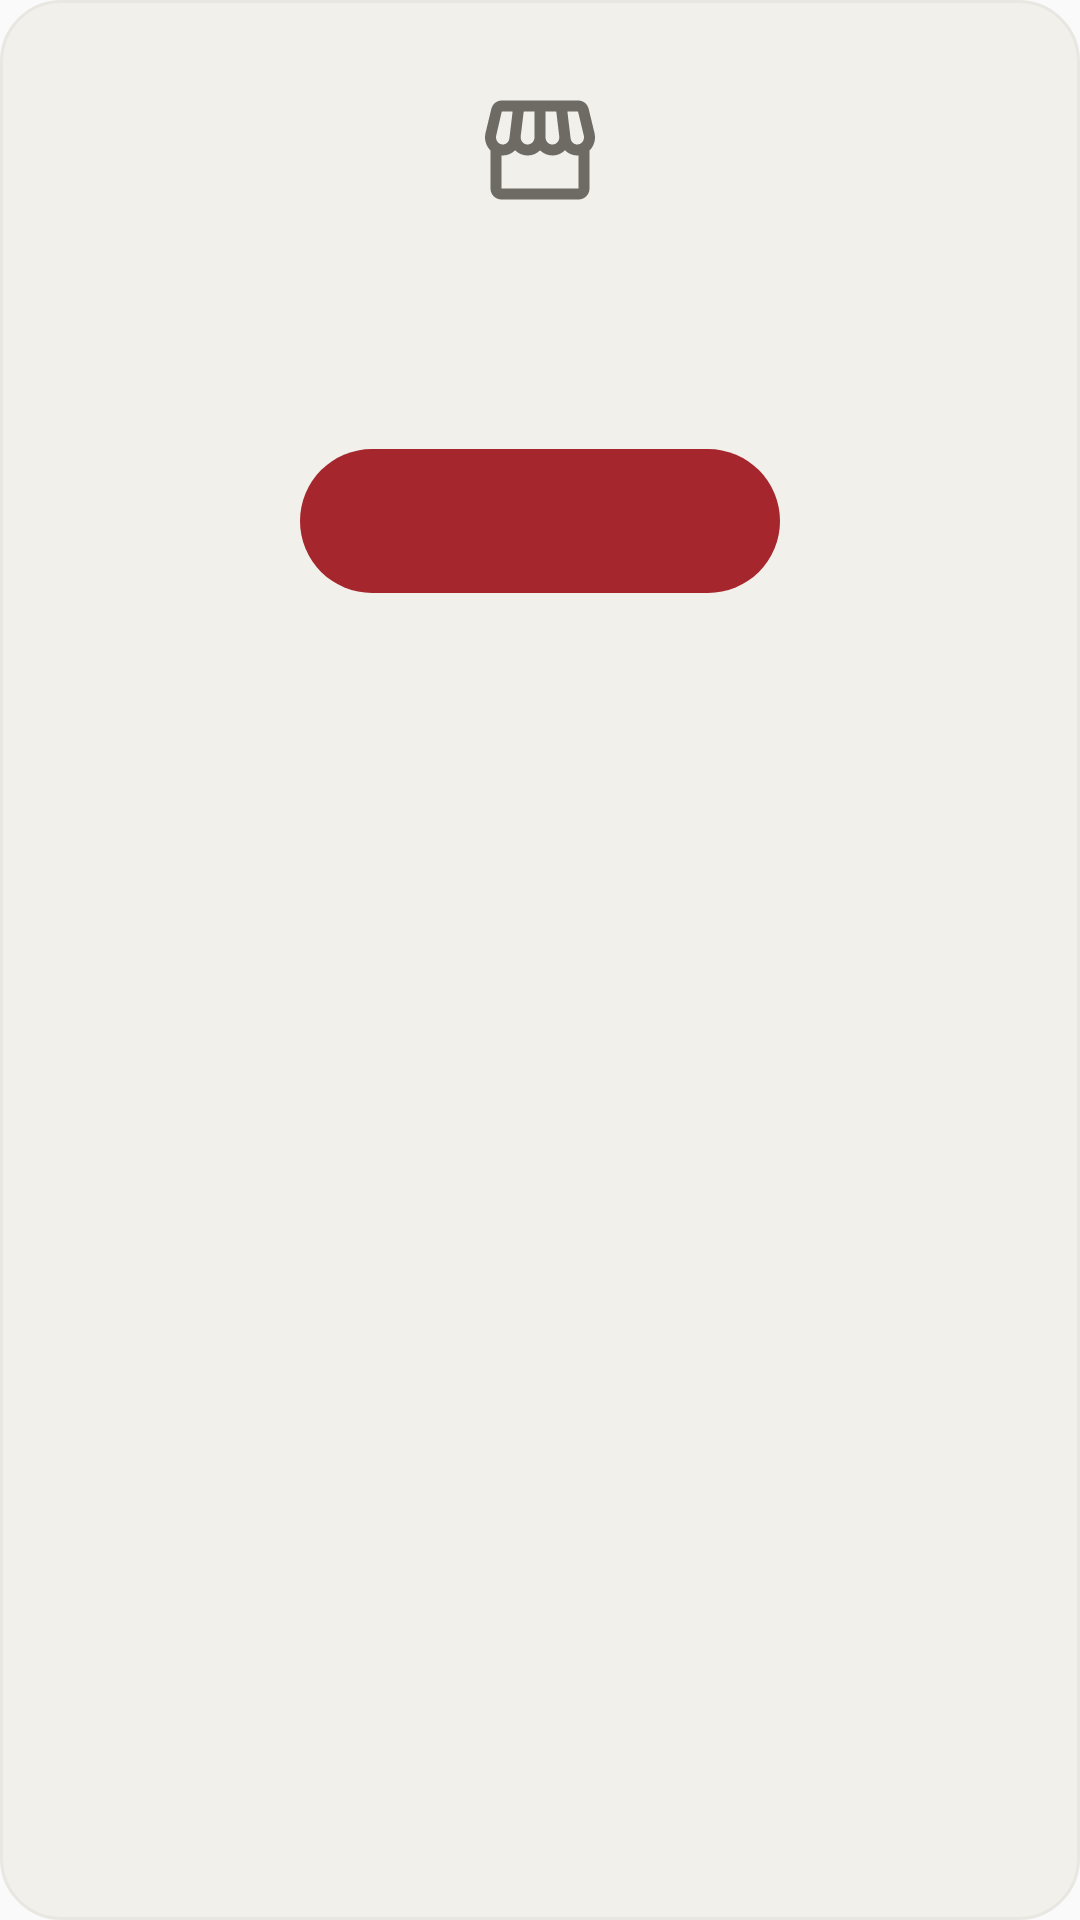

Where to tap for icons on this 1080 x 1920 app screen, as (x=x, y=y):
storefront: (x=540, y=150)
